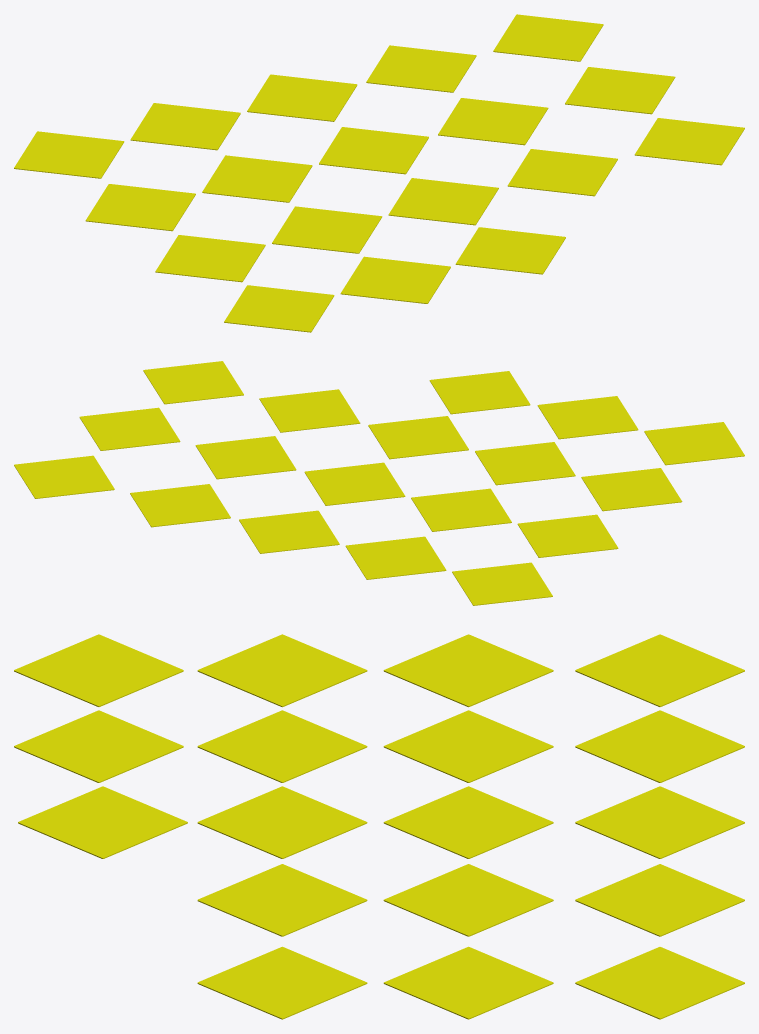
Rendered from Caution Signs 1.fbx.
The picture shows the model from 3 angles, top to bottom: view 1: azimuth 30°, elevation 25°; view 2: azimuth 150°, elevation 25°; view 3: azimuth 270°, elevation 25°; orthographic projection. The views are drawn at different scales.
Parts seen in each view (by area): view 1: pCube21, pCube34, pCube22, pCube1, pCube27, pCube23, pCube32, pCube20, pCube36, pCube30, pCube29, pCube31 (+6 smaller); view 2: pCube37, pCube30, pCube29, pCube22, pCube1, pCube33, pCube27, pCube23, pCube34, pCube32, pCube31, pCube26 (+6 smaller); view 3: pCube31, pCube33, pCube25, pCube26, pCube24, pCube28, pCube27, pCube34, pCube22, pCube30, pCube29, pCube21 (+6 smaller).
Boxes of the visible parts, x1=… form: pCube21: x1=247, y1=74, x2=357, y2=121; pCube34: x1=388, y1=178, x2=498, y2=225; pCube22: x1=366, y1=45, x2=476, y2=92; pCube1: x1=14, y1=131, x2=124, y2=178; pCube27: x1=202, y1=155, x2=312, y2=202; pCube23: x1=493, y1=14, x2=603, y2=61; pCube32: x1=272, y1=206, x2=382, y2=253; pCube20: x1=130, y1=103, x2=240, y2=150; pCube36: x1=224, y1=285, x2=334, y2=332; pCube30: x1=455, y1=227, x2=565, y2=274; pCube29: x1=507, y1=149, x2=617, y2=196; pCube31: x1=155, y1=235, x2=265, y2=282; pCube37: x1=537, y1=396, x2=638, y2=439; pCube30: x1=429, y1=371, x2=530, y2=414; pCube29: x1=259, y1=389, x2=360, y2=432; pCube22: x1=130, y1=484, x2=230, y2=527; pCube1: x1=452, y1=562, x2=552, y2=605; pCube33: x1=143, y1=361, x2=243, y2=404; pCube27: x1=411, y1=488, x2=511, y2=531; pCube23: x1=14, y1=455, x2=114, y2=498; pCube34: x1=368, y1=416, x2=468, y2=459; pCube32: x1=475, y1=442, x2=575, y2=485; pCube31: x1=581, y1=468, x2=682, y2=511; pCube26: x1=517, y1=514, x2=618, y2=557; pCube31: x1=197, y1=634, x2=367, y2=707; pCube33: x1=197, y1=946, x2=367, y2=1019; pCube25: x1=383, y1=786, x2=553, y2=858; pCube26: x1=383, y1=634, x2=553, y2=707; pCube24: x1=383, y1=864, x2=553, y2=936; pCube28: x1=383, y1=946, x2=553, y2=1019; pCube27: x1=383, y1=710, x2=553, y2=782; pCube34: x1=197, y1=786, x2=367, y2=858; pCube22: x1=575, y1=864, x2=744, y2=936; pCube30: x1=18, y1=786, x2=187, y2=858; pCube29: x1=197, y1=864, x2=367, y2=936; pCube21: x1=575, y1=786, x2=744, y2=858.
Size of the model in its own units: 40.16 by 0.0501 by 32.3.
